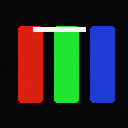3 line_h: (33, 27, 85, 31)
